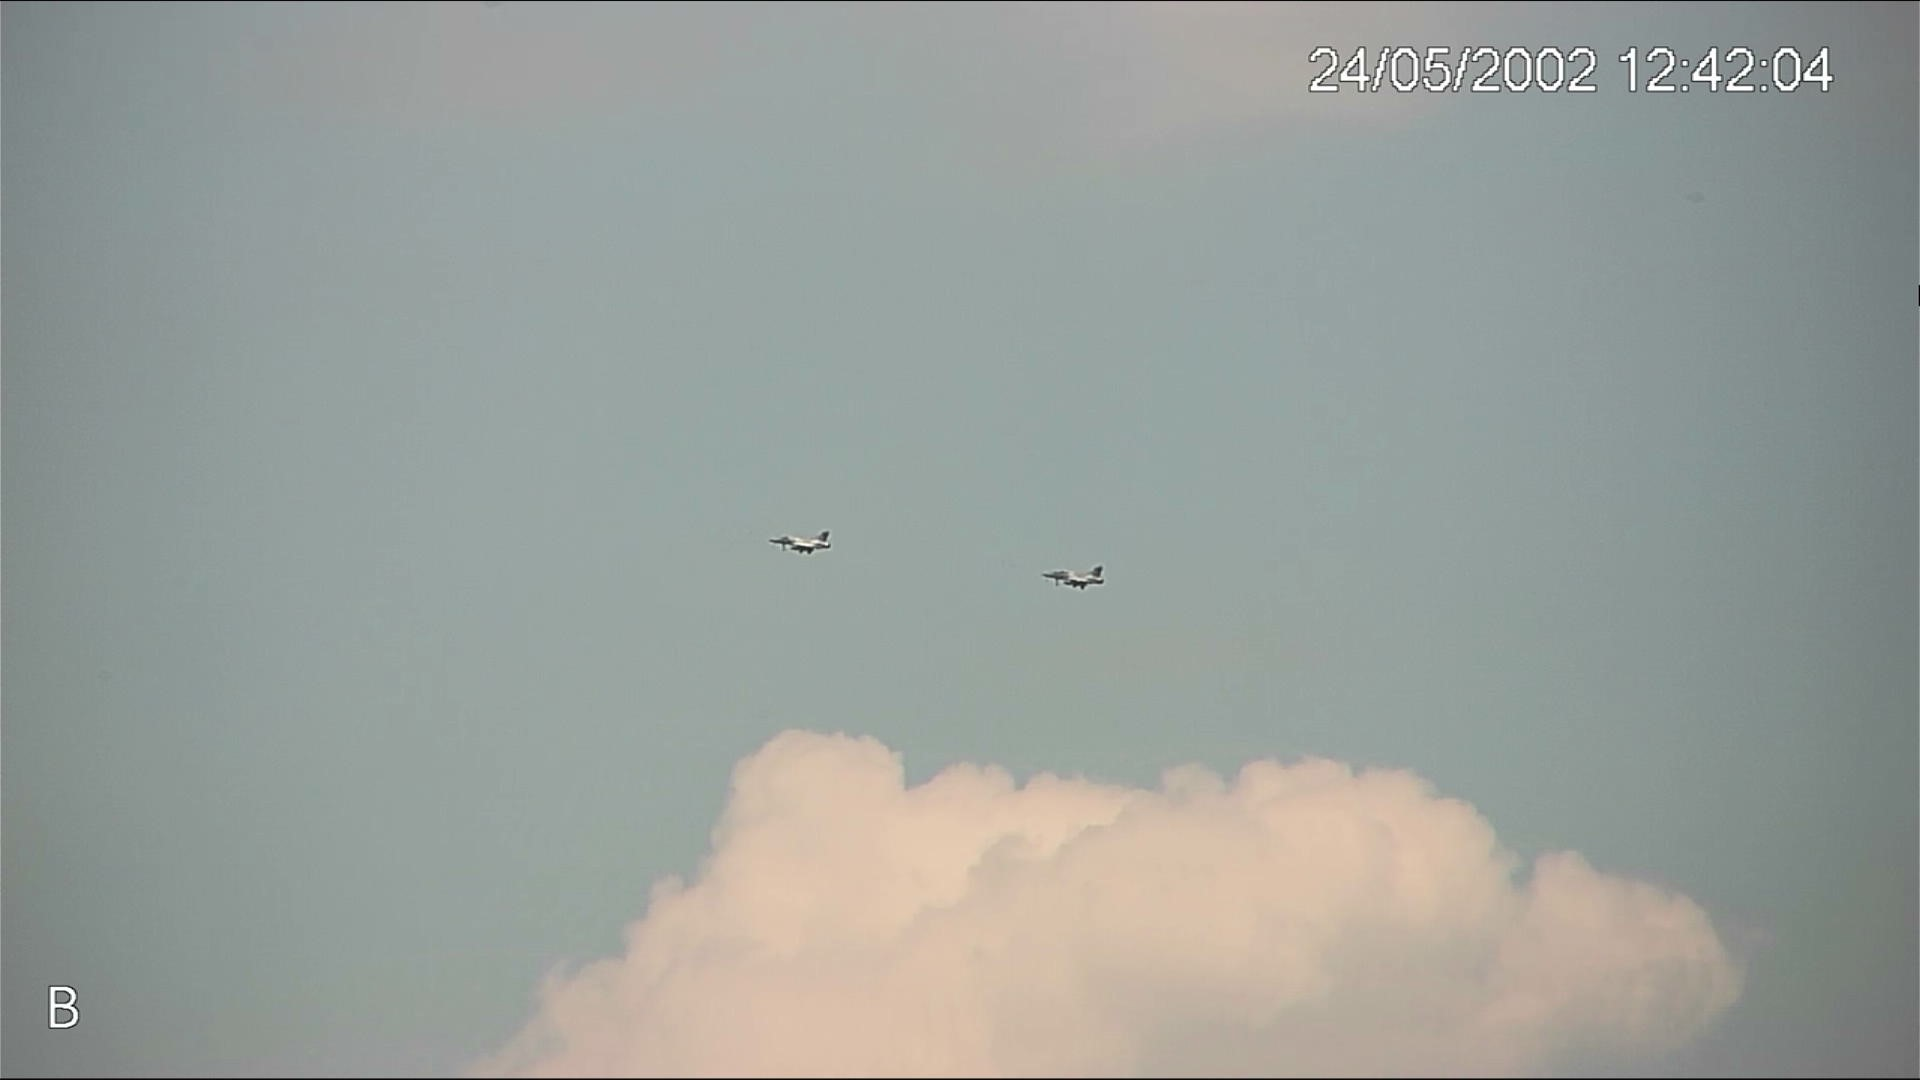SU_30: (767, 527, 835, 556), (1044, 564, 1106, 591)
